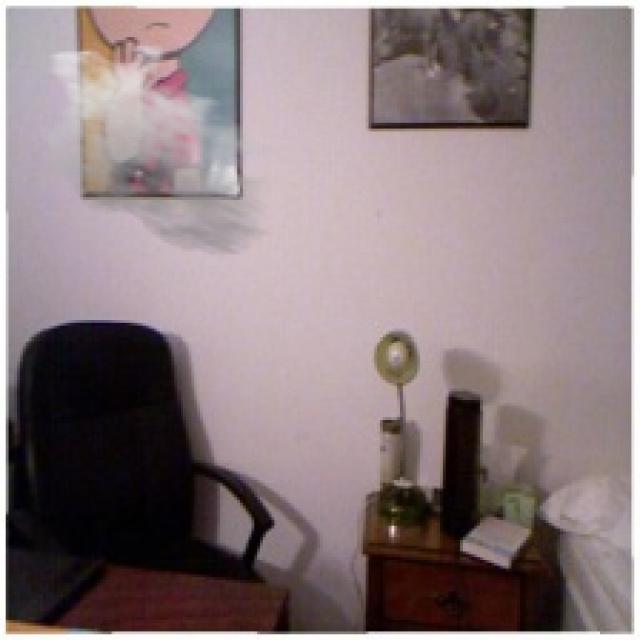smoke: (35, 43, 292, 257)
